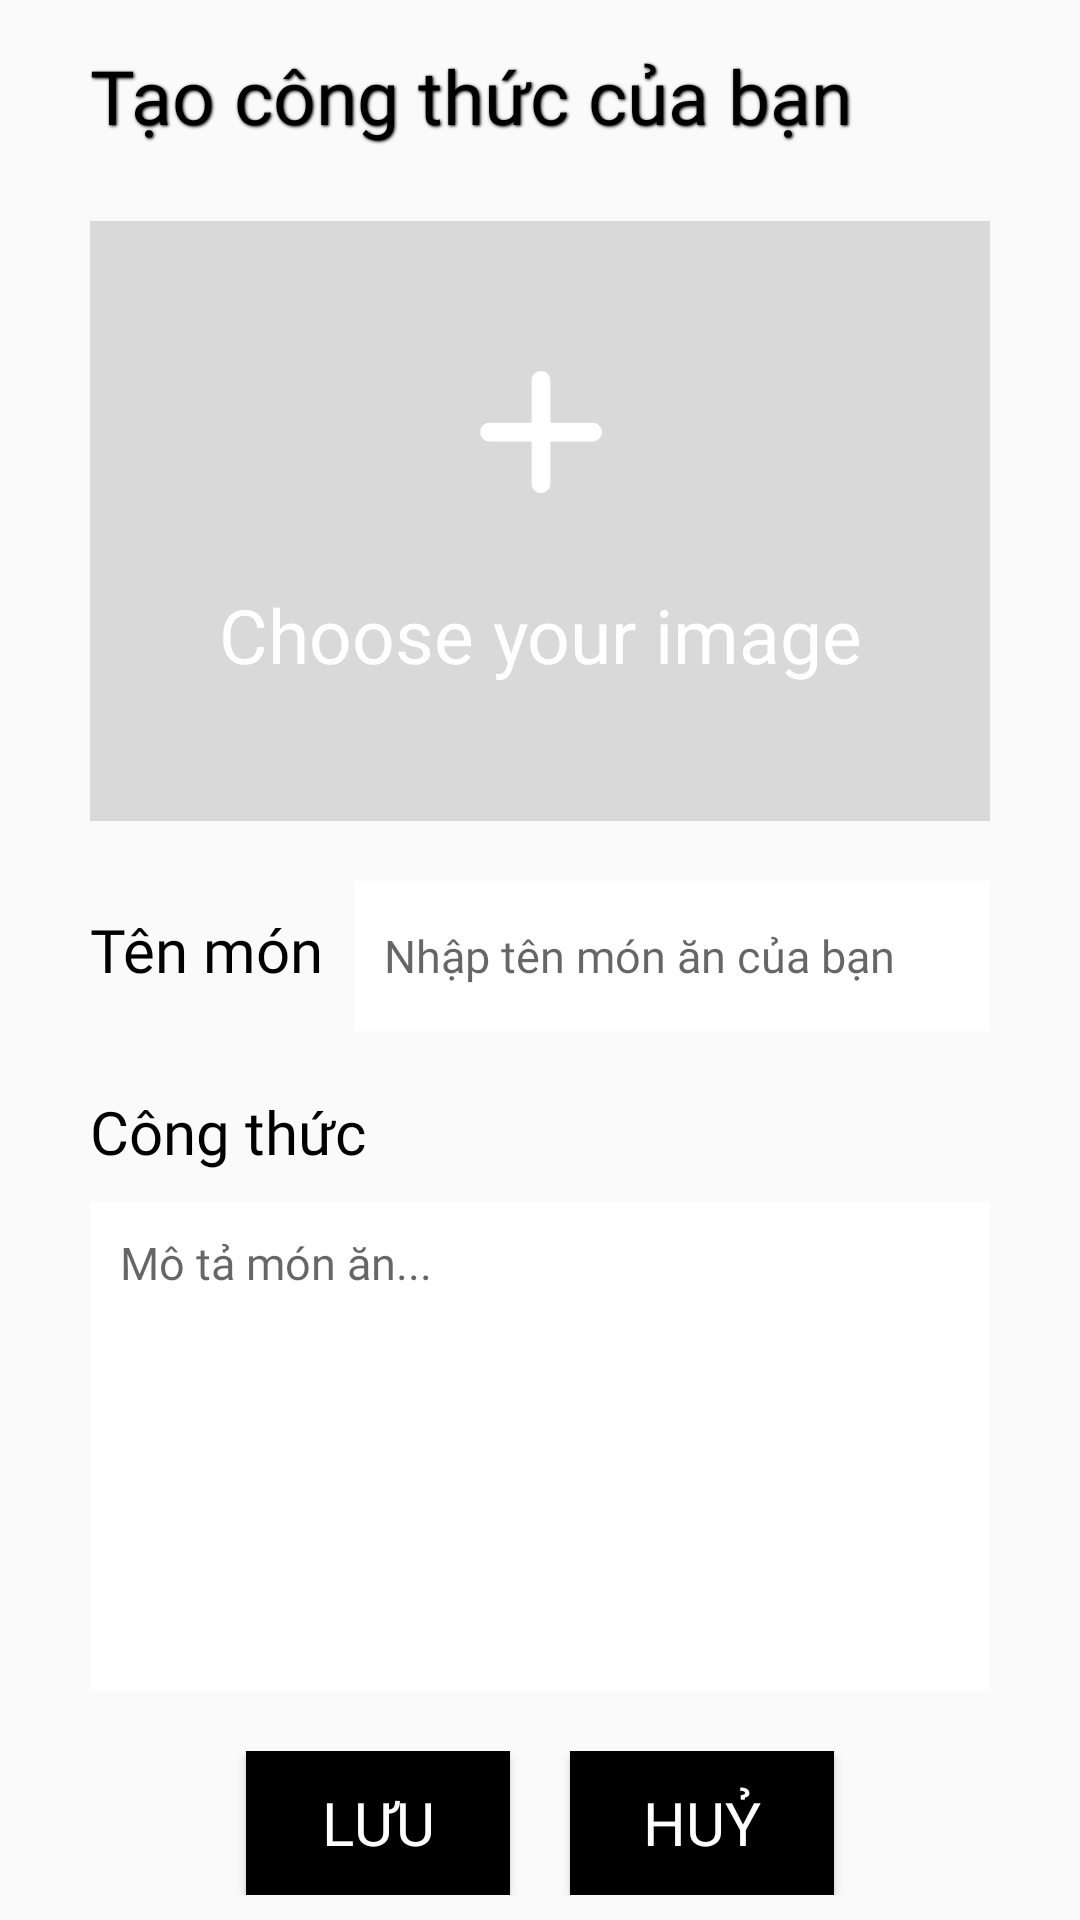

Screen size 1080 x 1920. Icon name, then its center in pixels as point (x, y):
plussolidwhite: point (541, 432)
